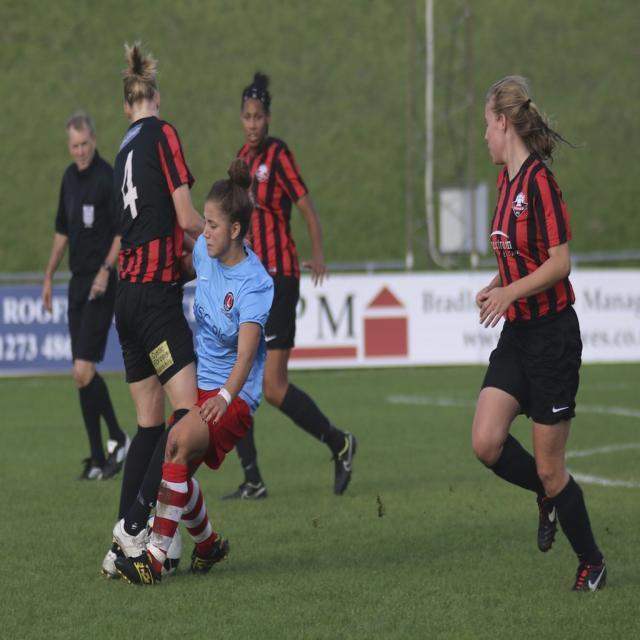ball: (145, 514, 183, 576)
